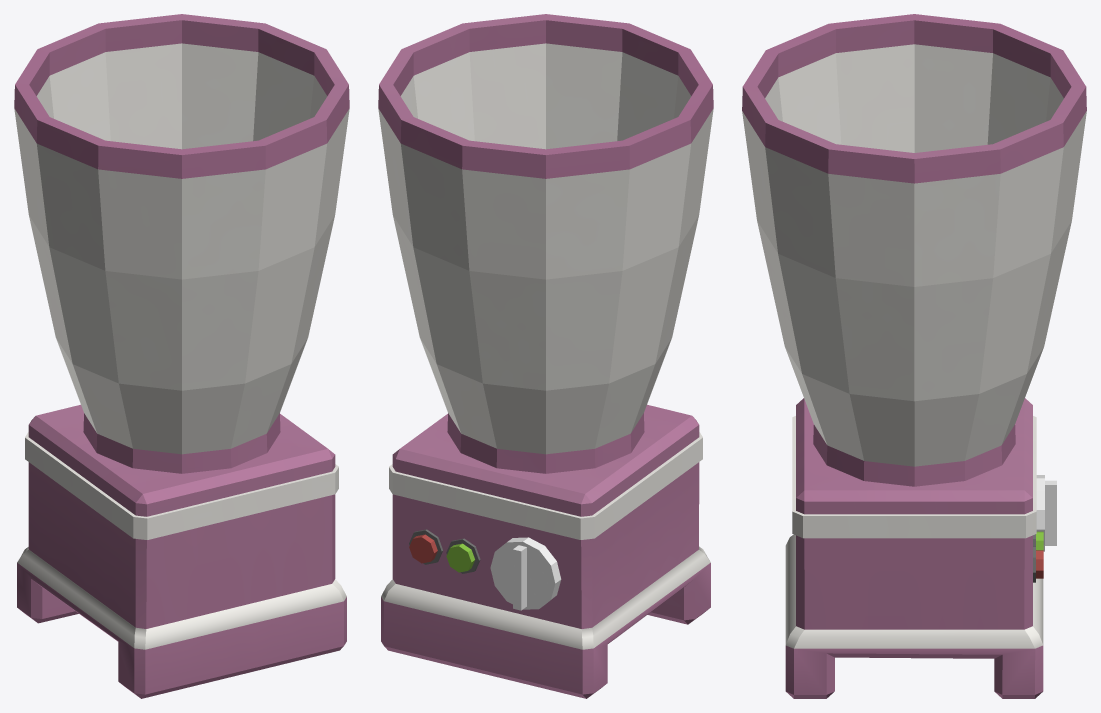
Rendered from SM_Item_ZhaZhiJi.fbx.
3 views of the same model, side by side, from view 1: azimuth 30°, elevation 25°; view 2: azimuth 150°, elevation 25°; view 3: azimuth 270°, elevation 25° (orthographic). The views are drawn at different scales.
Visible parts, largest first — view 1: SM_ZhaZhiJi; view 2: SM_ZhaZhiJi; view 3: SM_ZhaZhiJi.
Boxes of the visible parts, x1,y1,x2,y2 form: SM_ZhaZhiJi: (14, 14, 349, 698); SM_ZhaZhiJi: (378, 14, 713, 698); SM_ZhaZhiJi: (742, 14, 1086, 698).
Bounding box in the file's own units: 0.35 × 0.63 × 0.35.
